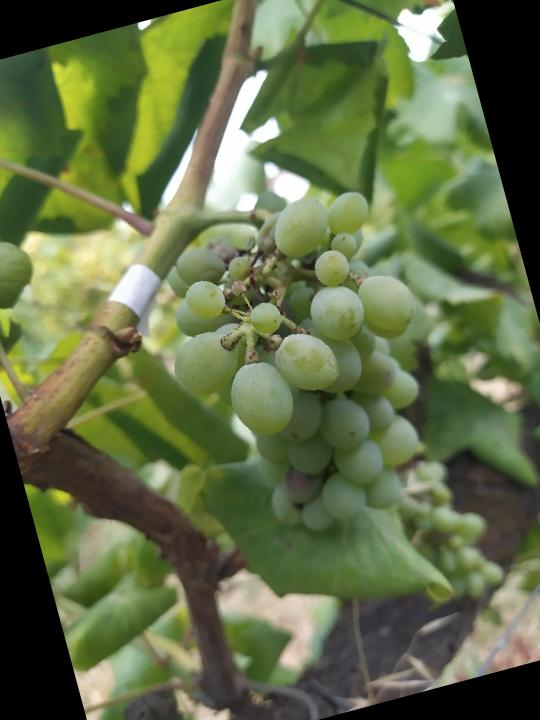grape: (134, 169, 473, 559)
